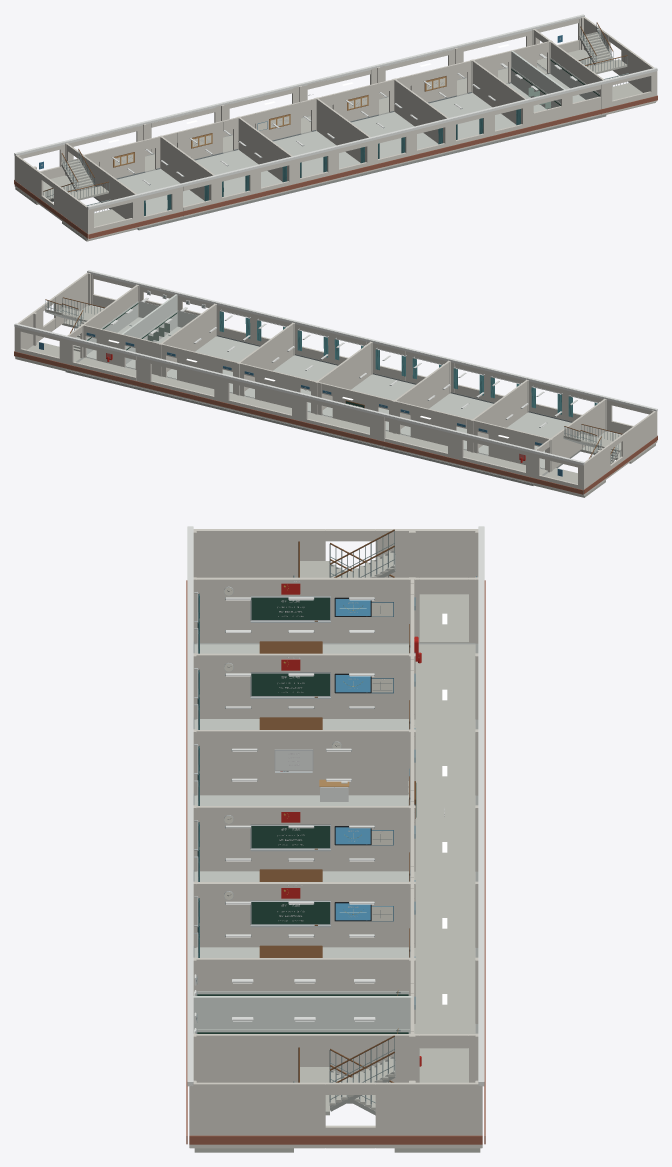
The model's file is floor-04.glb.
3 renders of one model, top to bottom at view 1: azimuth 30°, elevation 25°; view 2: azimuth 150°, elevation 25°; view 3: azimuth 270°, elevation 25°, orthographic. The views are drawn at different scales.
Parts seen in each view (by area): view 1: Floor_04__Plaster_WarmLimestone, Floor_04__tile_floor, Floor_04__Paint_OffWhite, Floor_04__terrazzo, Floor_04__Terracotta_FiredClay, Floor_04__Concrete_FineCast, Floor_04__tile_wall, Floor_04__Fabric_Teal, Floor_04__Steel_PowderCoat, Floor_04__Paper_Cream, Floor_04__Wood_Honey, Floor_04__Wood_Walnut (+1 smaller); view 2: Floor_04__Plaster_WarmLimestone, Floor_04__tile_floor, Floor_04__Paint_OffWhite, Floor_04__terrazzo, Floor_04__Terracotta_FiredClay, Floor_04__tile_wall, Floor_04__Concrete_FineCast, Floor_04__Fabric_Teal, Floor_04__Steel_PowderCoat, Floor_04__Paint_Slate, Floor_04__Blue_School; view 3: Floor_04__Plaster_WarmLimestone, Floor_04__terrazzo, Floor_04__Paint_OffWhite, Floor_04__tile_wall, Floor_04__tile_floor, Floor_04__Chalkboard_Green, Floor_04__Terracotta_FiredClay, Floor_04__Wood_Walnut, Floor_04__Metal_BrushedNickel, Floor_04__Screen_LCD, Floor_04__Paper_Cream, Floor_04__Steel_PowderCoat (+4 smaller).
Boxes of the visible parts, x1,y1,x2,y2 form: Floor_04__Plaster_WarmLimestone: [14, 17, 657, 240]; Floor_04__tile_floor: [117, 74, 585, 215]; Floor_04__Paint_OffWhite: [14, 14, 657, 209]; Floor_04__terrazzo: [15, 32, 655, 241]; Floor_04__Terracotta_FiredClay: [14, 95, 657, 238]; Floor_04__Concrete_FineCast: [50, 33, 606, 230]; Floor_04__tile_wall: [511, 50, 599, 109]; Floor_04__Fabric_Teal: [144, 109, 520, 215]; Floor_04__Steel_PowderCoat: [43, 23, 628, 212]; Floor_04__Paper_Cream: [114, 78, 445, 165]; Floor_04__Wood_Honey: [113, 76, 446, 167]; Floor_04__Wood_Walnut: [43, 22, 627, 192]; Floor_04__Plaster_WarmLimestone: [14, 272, 657, 495]; Floor_04__tile_floor: [86, 317, 571, 468]; Floor_04__Paint_OffWhite: [14, 270, 657, 465]; Floor_04__terrazzo: [15, 305, 655, 497]; Floor_04__Terracotta_FiredClay: [14, 351, 657, 494]; Floor_04__tile_wall: [86, 294, 198, 364]; Floor_04__Concrete_FineCast: [45, 311, 618, 485]; Floor_04__Fabric_Teal: [219, 311, 597, 417]; Floor_04__Steel_PowderCoat: [45, 292, 621, 462]; Floor_04__Paint_Slate: [76, 292, 614, 456]; Floor_04__Blue_School: [39, 332, 562, 476]; Floor_04__Plaster_WarmLimestone: [189, 529, 482, 1148]; Floor_04__terrazzo: [194, 551, 480, 1152]; Floor_04__Paint_OffWhite: [187, 526, 484, 1086]; Floor_04__tile_wall: [193, 991, 412, 1033]; Floor_04__tile_floor: [194, 644, 408, 957]; Floor_04__Chalkboard_Green: [197, 597, 416, 1033]; Floor_04__Terracotta_FiredClay: [186, 580, 485, 1144]; Floor_04__Wood_Walnut: [259, 529, 415, 1082]; Floor_04__Metal_BrushedNickel: [194, 586, 341, 957]; Floor_04__Screen_LCD: [335, 599, 370, 920]; Floor_04__Paper_Cream: [224, 587, 408, 920]; Floor_04__Steel_PowderCoat: [197, 531, 400, 1104].
Size of the model in its own units: 62.87 by 4.94 by 14.31.
